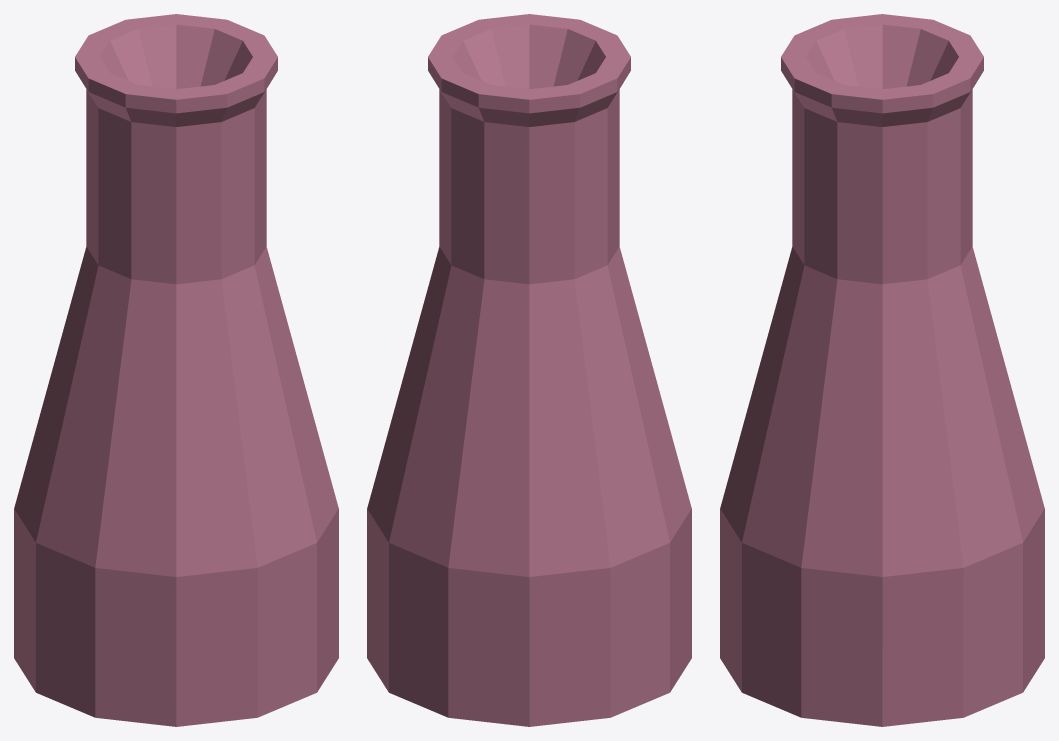
Rendered from Item_FlowerVase.fbx.
The picture shows the model from 3 angles, left to right: view 1: azimuth 30°, elevation 25°; view 2: azimuth 150°, elevation 25°; view 3: azimuth 270°, elevation 25°; orthographic projection.
Visible parts, largest first — view 1: Cylinder.001; view 2: Cylinder.001; view 3: Cylinder.001.
Boxes of the visible parts, x1,y1,x2,y2 form: Cylinder.001: [14, 14, 338, 726]; Cylinder.001: [367, 14, 691, 726]; Cylinder.001: [720, 14, 1044, 726].
Bounding box in the file's own units: 54.79 × 112 × 54.79.
